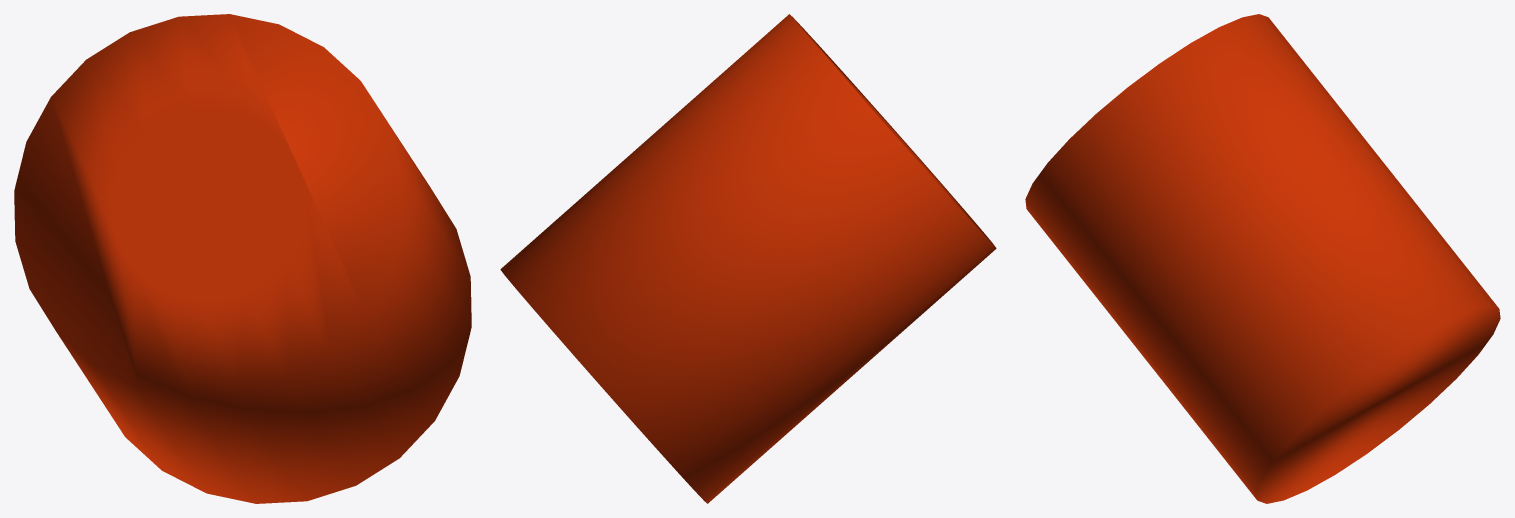
File: original-4.obj
3 renders of one model, left to right at view 1: azimuth 30°, elevation 25°; view 2: azimuth 150°, elevation 25°; view 3: azimuth 270°, elevation 25°, orthographic. The views are drawn at different scales.
Parts seen in each view (by area): view 1: Group5/mesh3/mesh3-geometry#mesh3-geometry; view 2: Group5/mesh3/mesh3-geometry#mesh3-geometry; view 3: Group5/mesh3/mesh3-geometry#mesh3-geometry.
Part boxes in pixels (<box>): Group5/mesh3/mesh3-geometry#mesh3-geometry: <box>14,14,471,503</box>; Group5/mesh3/mesh3-geometry#mesh3-geometry: <box>500,14,996,503</box>; Group5/mesh3/mesh3-geometry#mesh3-geometry: <box>1025,14,1500,503</box>.
Size of the model in its own units: 0.0189 by 0.0195 by 0.0195.
